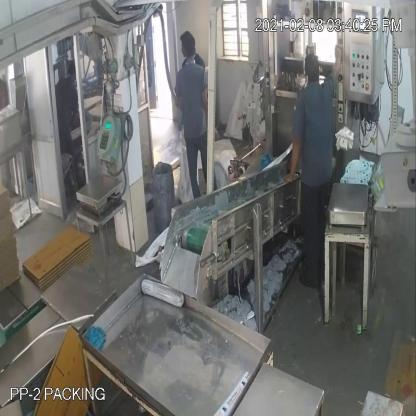no_glove: (282, 122, 304, 192), (326, 44, 350, 92)
